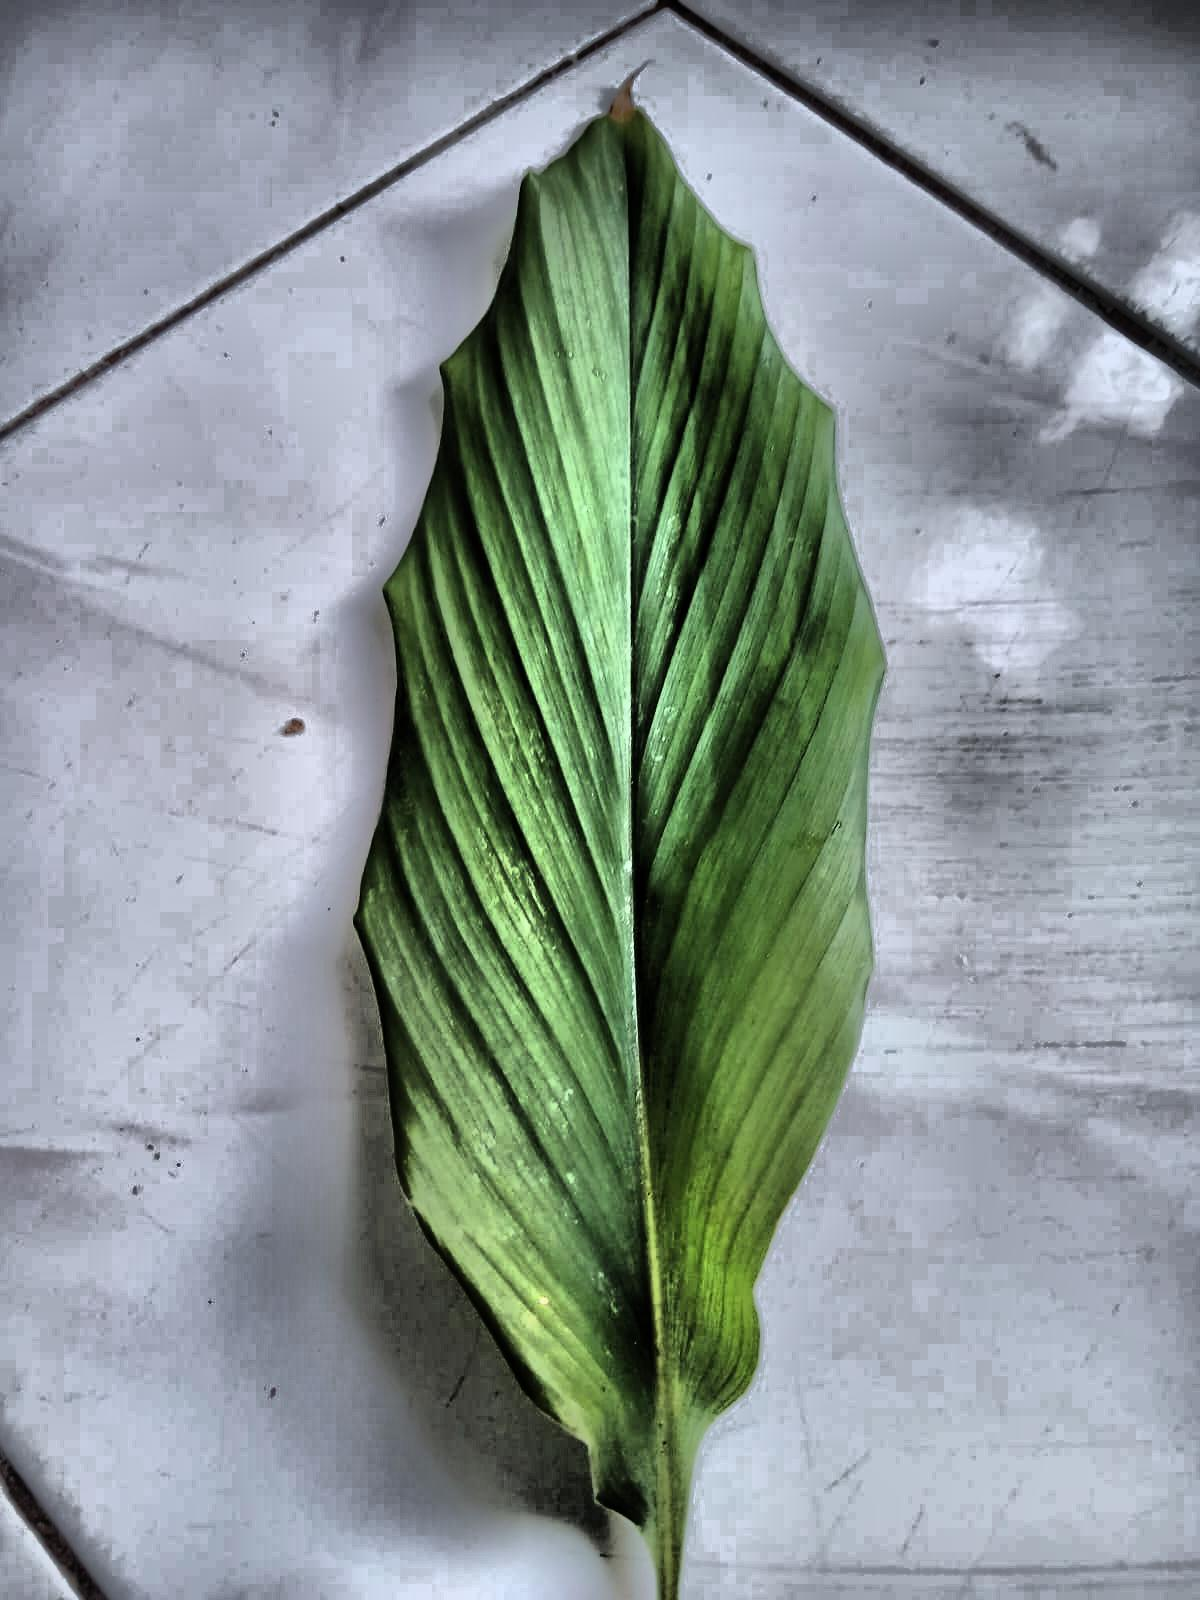daun kunyit: (357, 106, 884, 1599)
